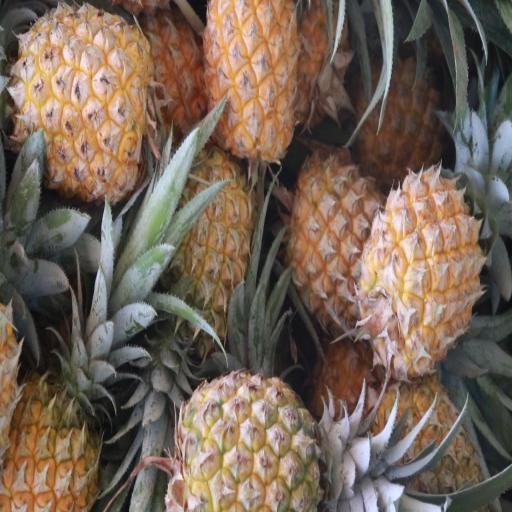------------------------------: (172, 375, 332, 509), (288, 157, 383, 337)
Pineapple - v8 v1: (17, 0, 150, 199), (360, 170, 479, 371), (165, 156, 251, 361), (203, 0, 299, 160), (4, 364, 106, 511), (359, 53, 445, 176)
